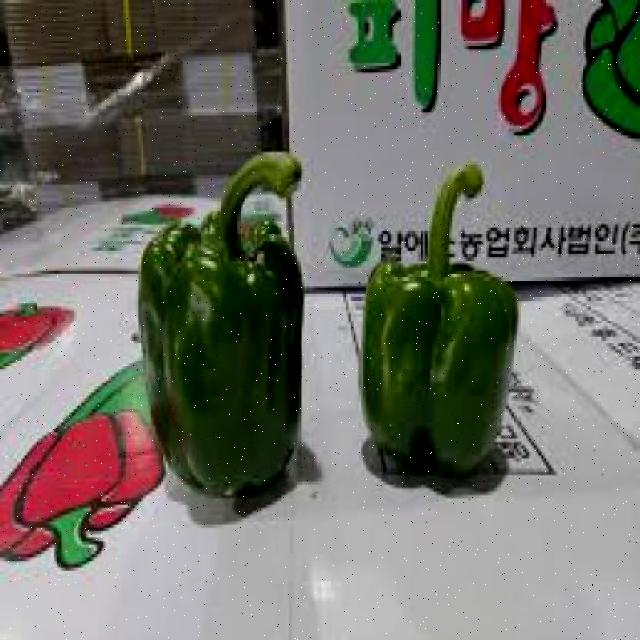Bell Pepper: (105, 124, 326, 508), (341, 151, 545, 503)
